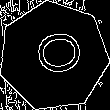O_W: (25, 32, 82, 81)
